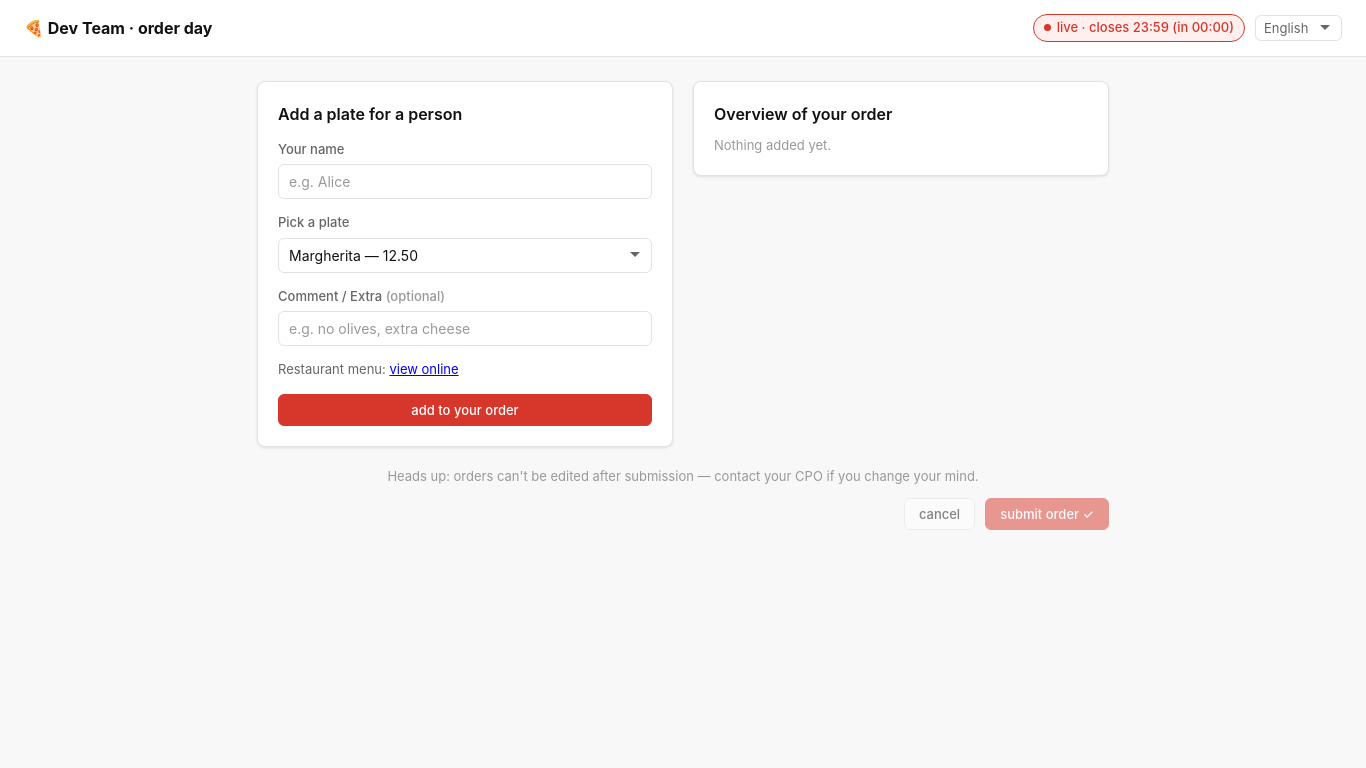
it: TeamOrderPage › cart behavior › shows error when adding to cart without a name
The width and height of the screenshot is (1366, 768).
// Do not enter a name, just click add
Step 1. Click the button "add to your order" → (465, 410), box [278, 394, 652, 426]
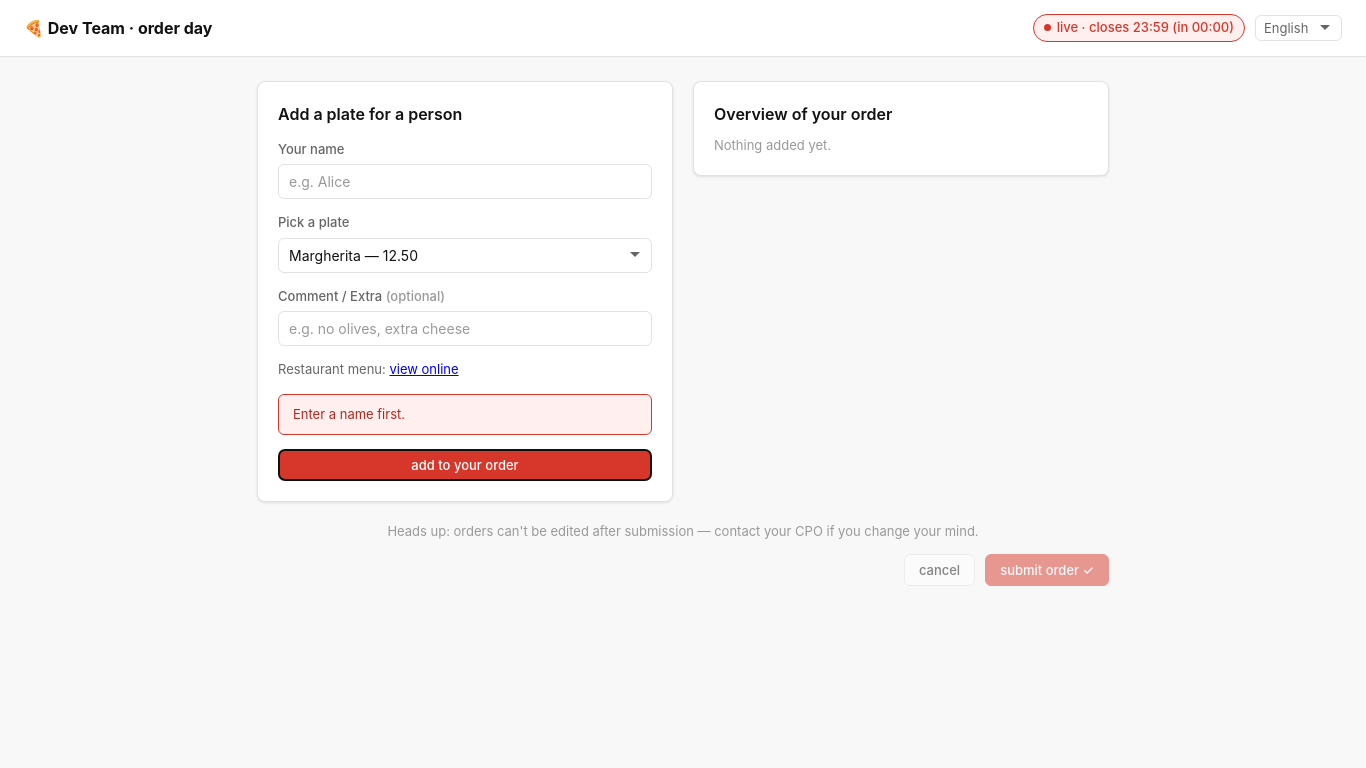
expect the text "Enter a name first." is shown: met, box [278, 394, 652, 435]
